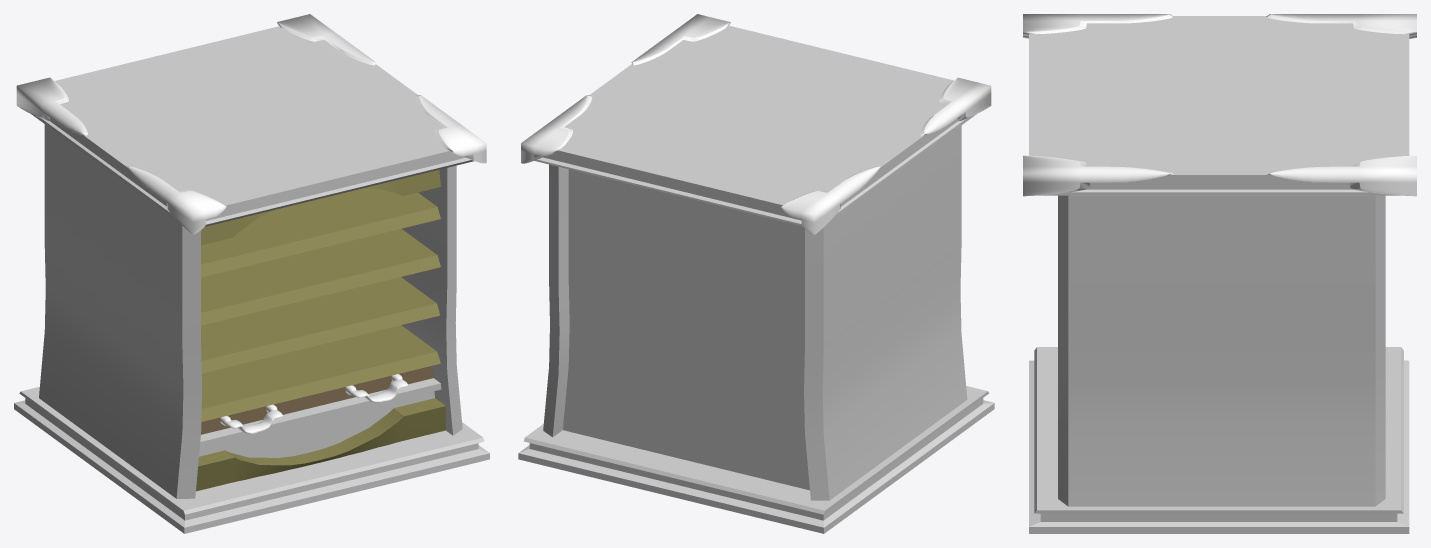
Rendered from bookcase.glb.
3 views of the same model, side by side, from view 1: azimuth 30°, elevation 25°; view 2: azimuth 150°, elevation 25°; view 3: azimuth 270°, elevation 25° (orthographic). The views are drawn at different scales.
Visible parts, largest first — view 1: Bookcase_2; view 2: Bookcase_2; view 3: Bookcase_2.
Part boxes in pixels (x1,y1,x2,y2): Bookcase_2: (14,14,489,533); Bookcase_2: (518,14,994,533); Bookcase_2: (1023,14,1416,533).
Bounding box in the file's own units: 1 × 1 × 1.
